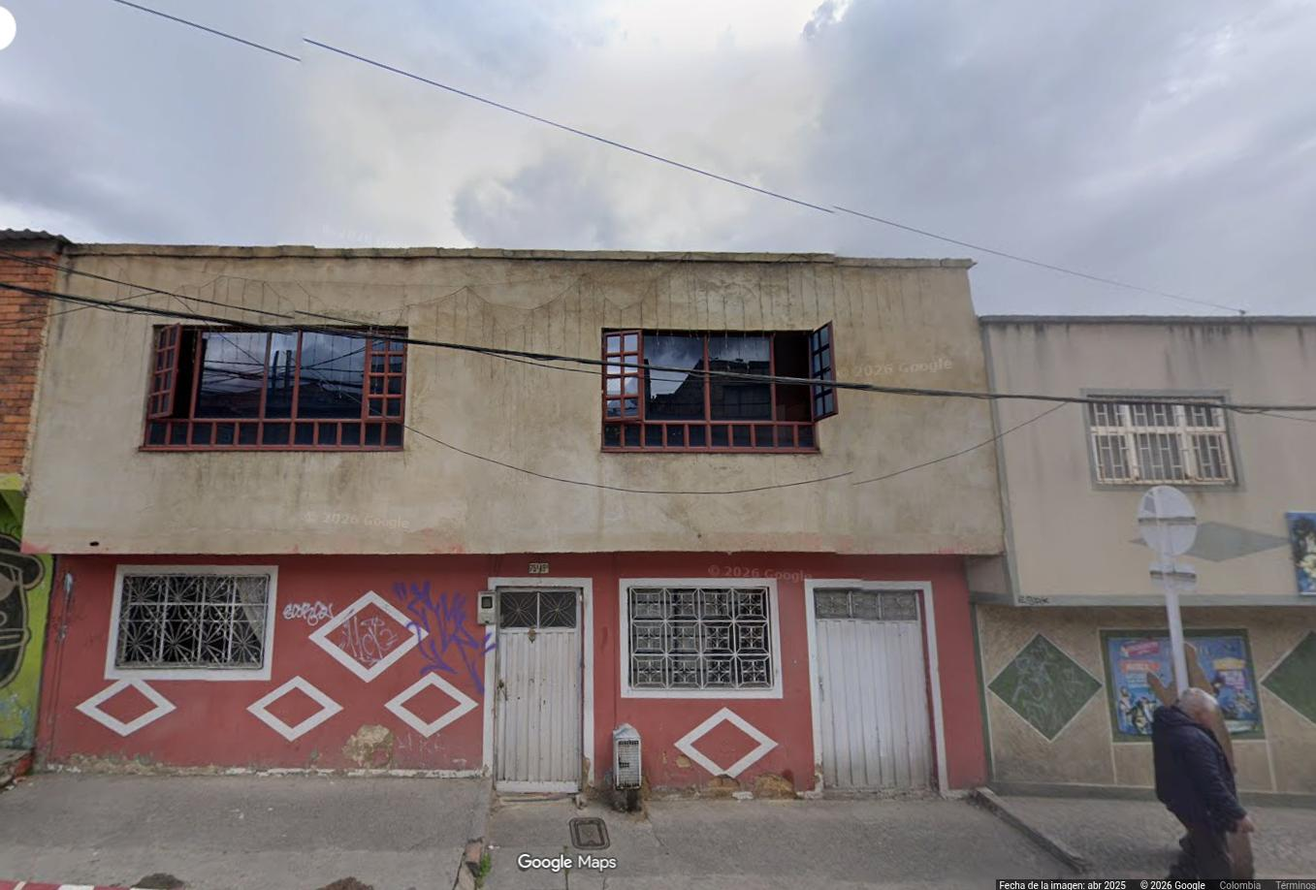casa: (20, 245, 1002, 791), (967, 315, 1315, 793)
